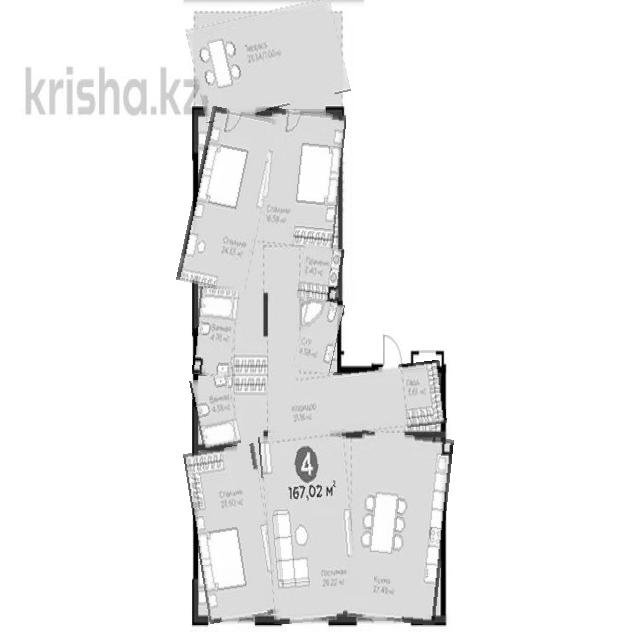balcony: (190, 4, 347, 115)
bathroom: (348, 432, 449, 623), (194, 288, 238, 377), (296, 299, 342, 373), (193, 374, 238, 449)
hallway: (267, 365, 445, 439)
living_room: (262, 430, 358, 622), (185, 108, 273, 292), (190, 446, 274, 622), (262, 109, 343, 250)
other: (298, 246, 343, 302)
